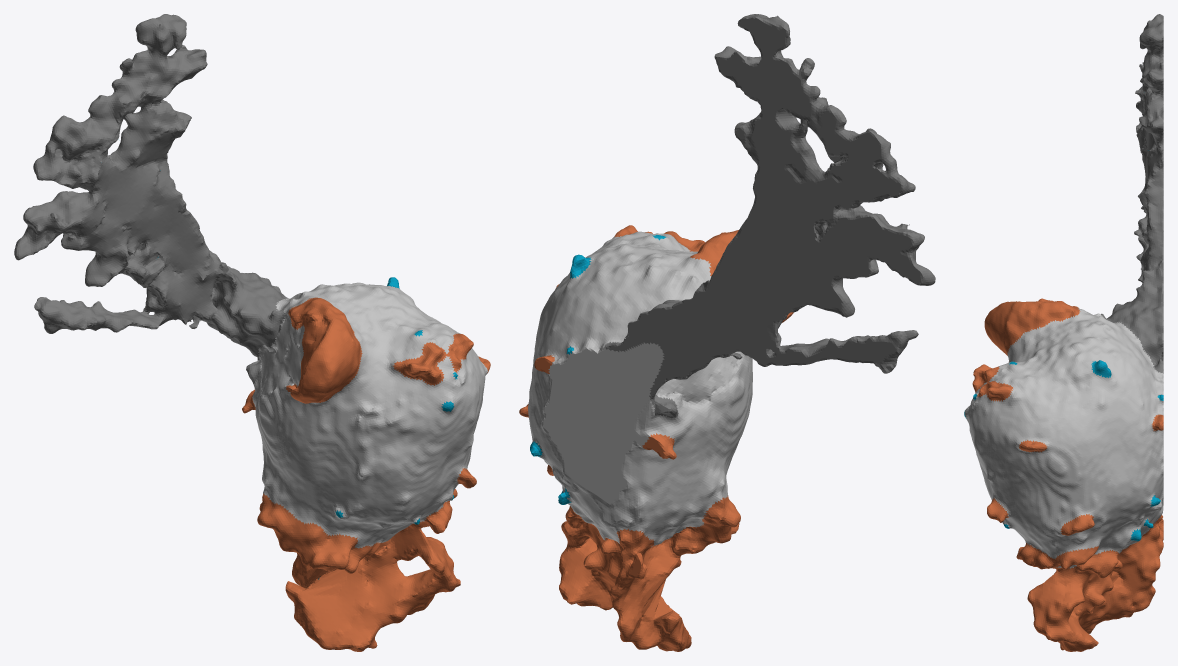
3 renders of one model, left to right at view 1: azimuth 30°, elevation 25°; view 2: azimuth 150°, elevation 25°; view 3: azimuth 270°, elevation 25°, orthographic. The views are drawn at different scales.
Size of the model in its own units: 173 by 257 by 82.79.
